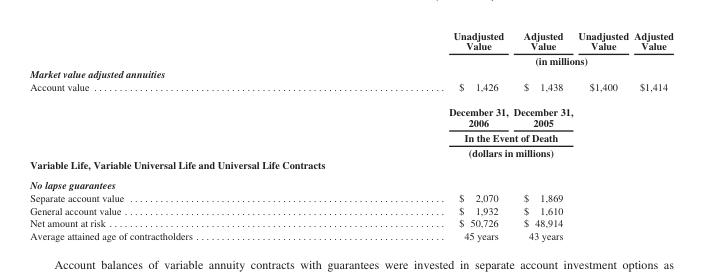table: (29, 29, 672, 241)
table column: (29, 29, 320, 241), (320, 29, 510, 241), (510, 29, 575, 241), (575, 29, 630, 241), (630, 29, 672, 241)
table column header: (29, 29, 672, 67)
table projected row header: (29, 174, 672, 191), (29, 158, 672, 174), (29, 67, 672, 79)
table row: (29, 98, 672, 129), (29, 29, 672, 52), (29, 79, 672, 98), (29, 174, 672, 191), (29, 158, 672, 174), (29, 52, 672, 67), (29, 129, 672, 144), (29, 144, 672, 158), (29, 203, 672, 216), (29, 216, 672, 229), (29, 67, 672, 79), (29, 191, 672, 203), (29, 229, 672, 241)
table spanning cell: (29, 79, 320, 158), (320, 52, 672, 67), (320, 129, 575, 144), (320, 144, 575, 158)
